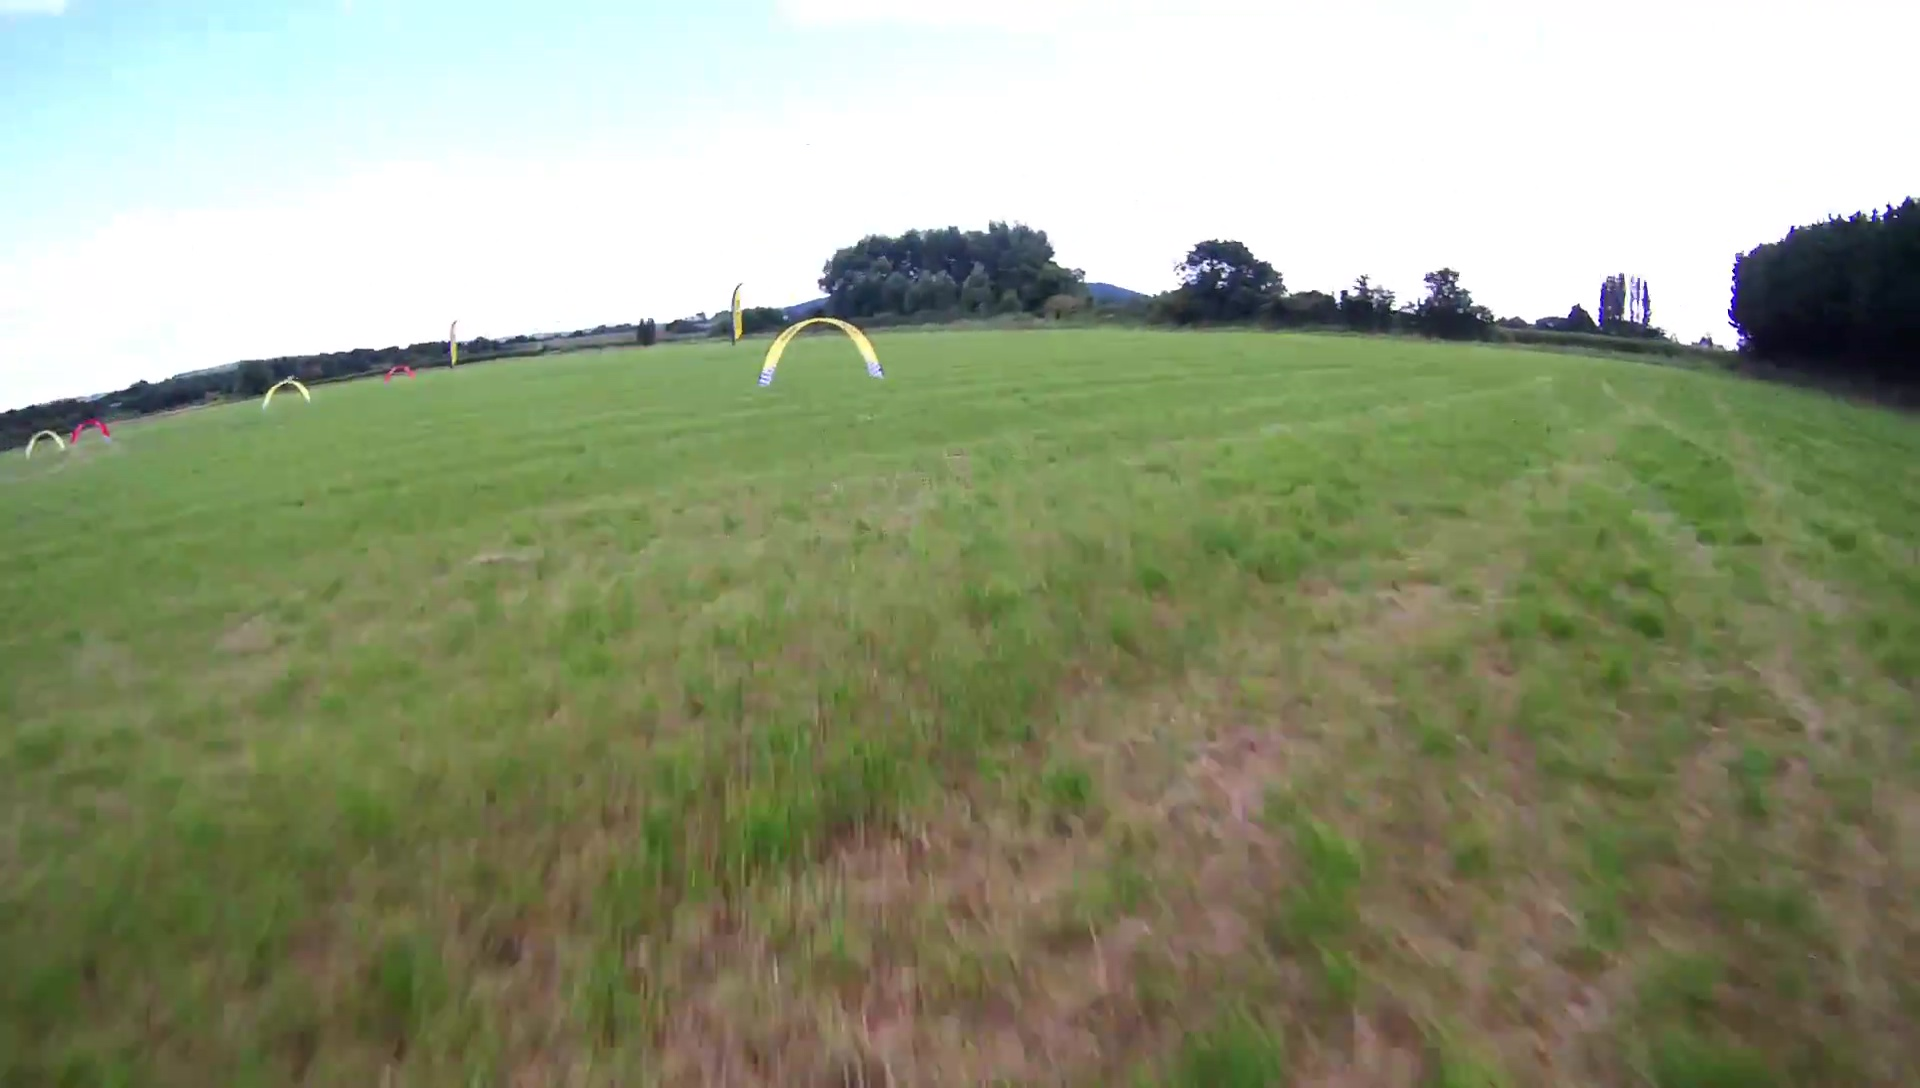gate: (753, 317, 887, 389), (258, 378, 313, 411), (21, 429, 69, 462), (69, 417, 111, 444)
